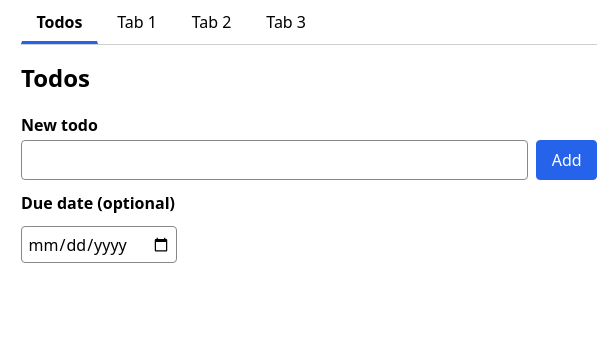
Test: UI11 failed add › UI11 in App: server error message goes to #form-error, not #status
This screenshot has width=614, height=355.
Type "Something" into the field with id "new-title" at (275, 160), box [21,140,528,180]
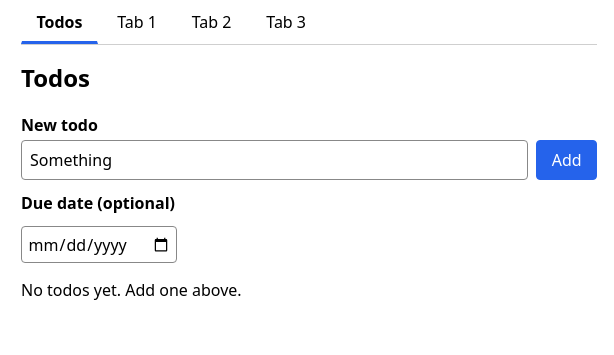
Type "2026-07-01" into the date field with id "new-due" at (99, 244), box [21,226,177,263]
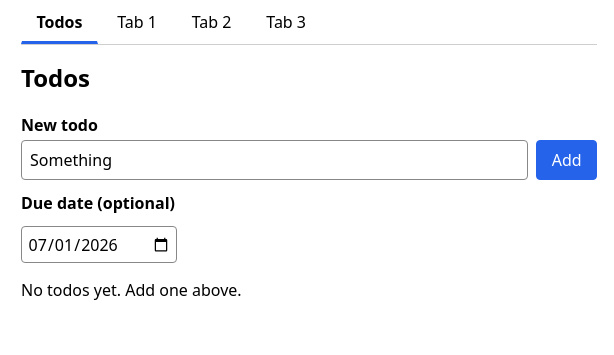
Submit the form with id "add-form", box [21,114,597,263]
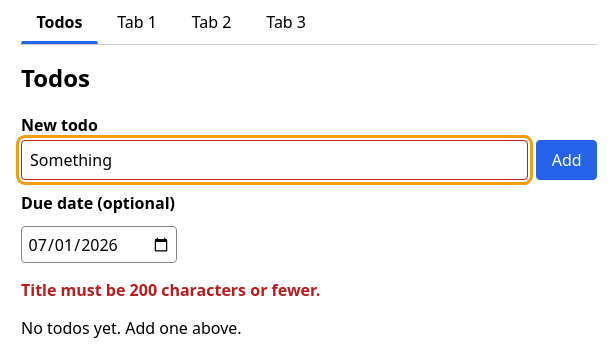
Expected: the text with id "form-error" reads "Title must be 200 characters or fewer.", [21,279,320,301]
